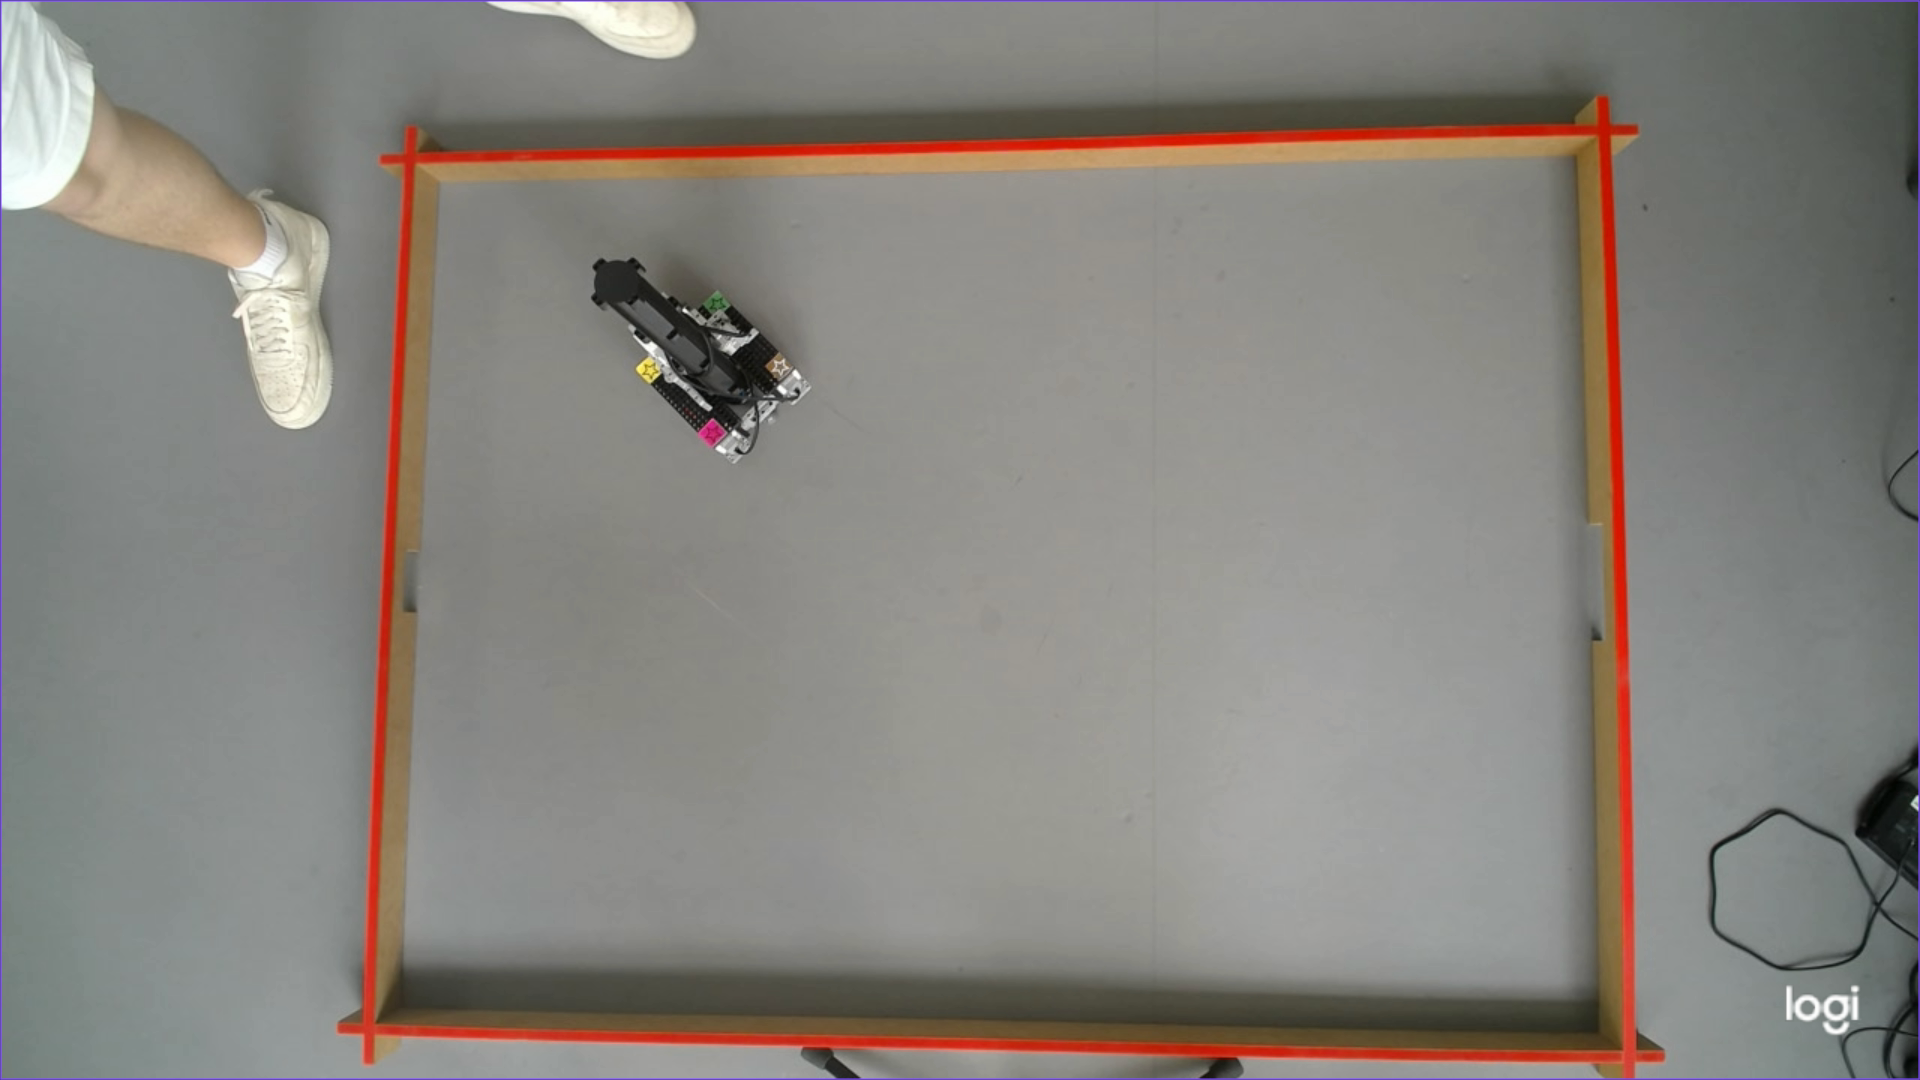corner_brown: (764, 352, 790, 378)
corner_green: (704, 290, 729, 313)
corner_pink: (698, 418, 725, 446)
corner_yellow: (636, 357, 661, 382)
playfield: (342, 132, 1642, 1073)
playfield_corner: (396, 136, 433, 175), (1589, 109, 1626, 149), (1613, 1035, 1650, 1075), (351, 1005, 388, 1044)
